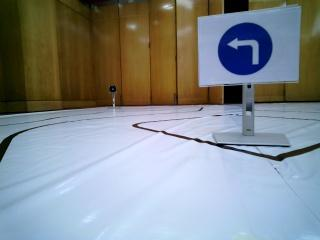left: (203, 20, 291, 80)
